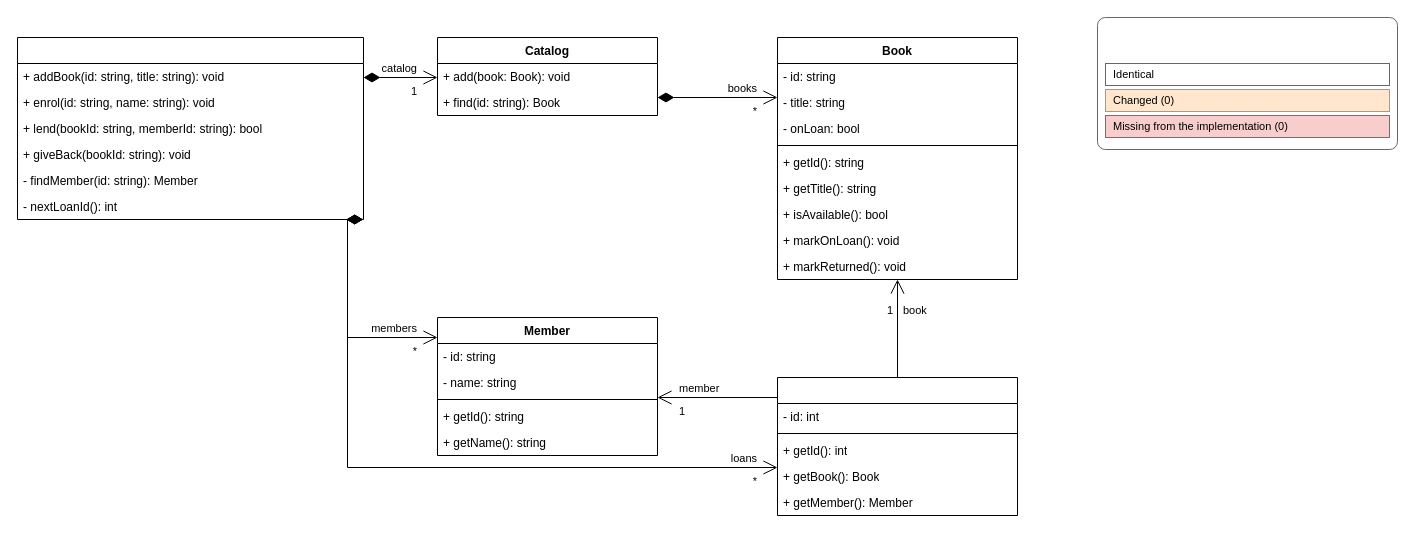
The diagram is 1415 pixels wide and 536 high, and some of its shapes have lost their labels. The shapes that lost their labels are listed below. From the top down, each one's box as (x1, y1, x2, y2) in pixels, then its label:
(1096, 16, 1398, 150): DESIGN drawn by a person · diagrams/input/class.drawio
(16, 36, 364, 220): Library
(776, 376, 1018, 516): Loan
